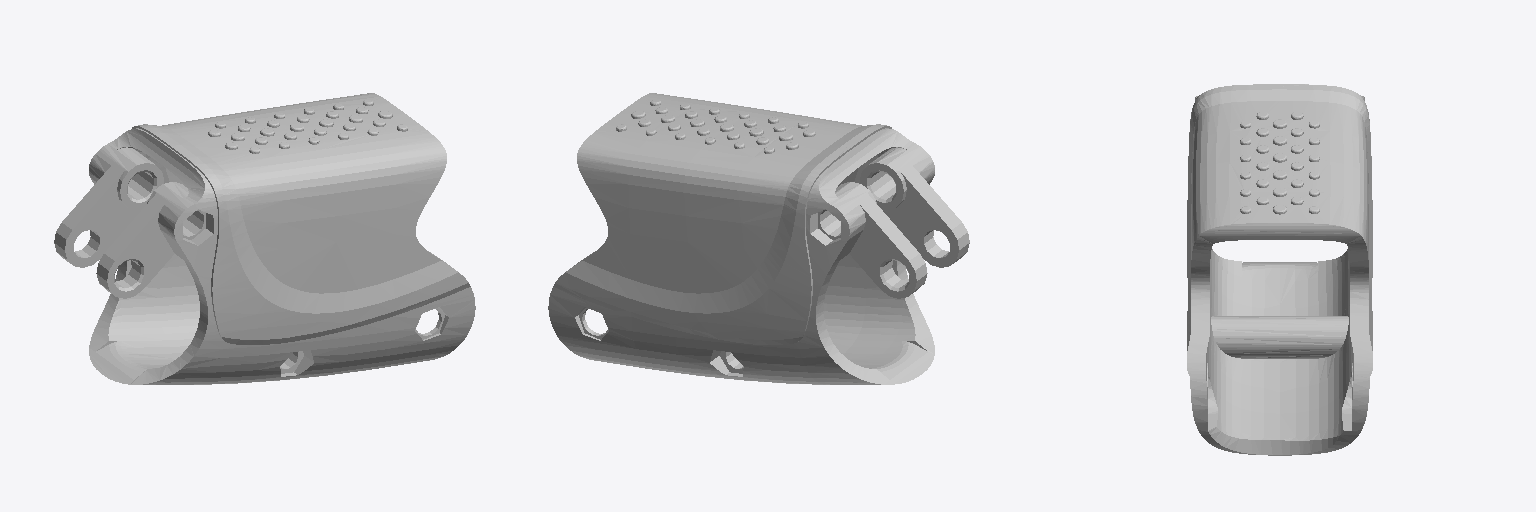
File: left_thumb_2_visuals.obj
The picture shows the model from 3 angles: view 1: azimuth 30°, elevation 25°; view 2: azimuth 150°, elevation 25°; view 3: azimuth 270°, elevation 25°; orthographic projection.
Bounding box in the file's own units: 0.0474 × 0.0336 × 0.0217.